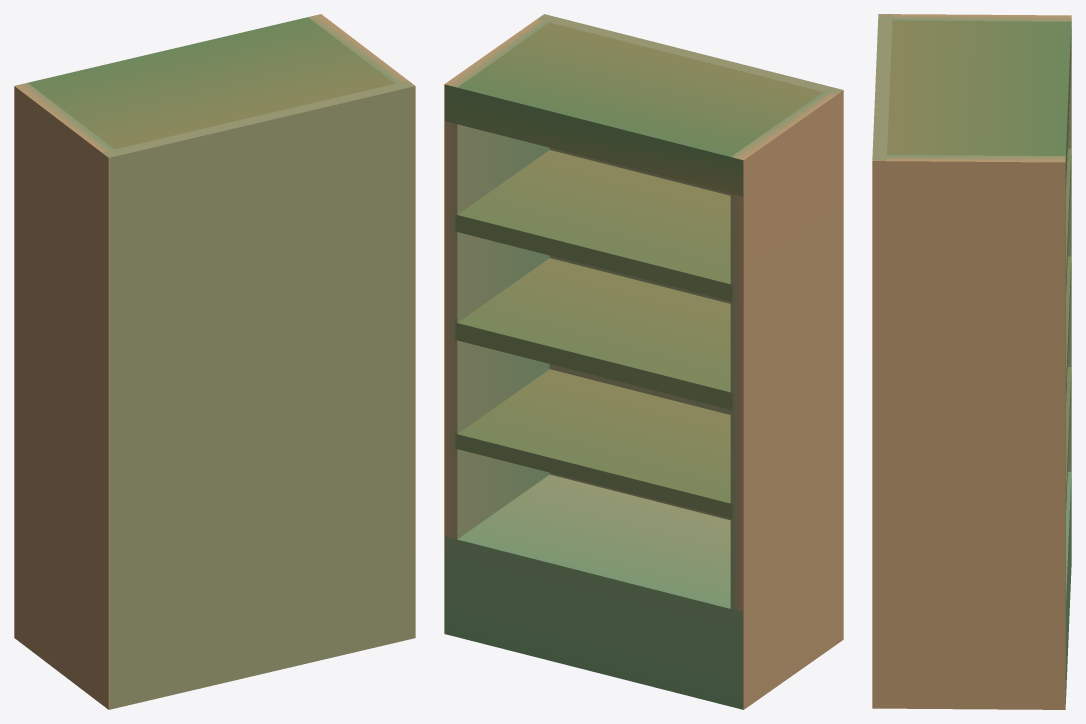
3 renders of one model, left to right at view 1: azimuth 30°, elevation 25°; view 2: azimuth 150°, elevation 25°; view 3: azimuth 270°, elevation 25°, orthographic.
Visible parts, largest first — view 1: back, side, top, side.001; view 2: side, base, top, shelf.001, shelf.002, side.001, shelf, back; view 3: side.001, top, side, back, base, shelf.001, shelf.002, shelf.
Boxes of the visible parts, bbox=[...] form: back: bbox=[103, 81, 414, 709]; side: bbox=[14, 83, 120, 709]; top: bbox=[28, 17, 394, 149]; side.001: bbox=[308, 14, 415, 637]; side: bbox=[730, 88, 843, 709]; base: bbox=[445, 474, 742, 709]; top: bbox=[445, 22, 822, 196]; shelf.001: bbox=[455, 258, 732, 410]; shelf.002: bbox=[455, 150, 732, 301]; side.001: bbox=[444, 14, 549, 633]; shelf: bbox=[455, 369, 732, 518]; back: bbox=[538, 14, 842, 520]; side.001: bbox=[872, 154, 1065, 709]; top: bbox=[887, 20, 1071, 193]; side: bbox=[878, 14, 1071, 471]; back: bbox=[872, 14, 892, 160]; base: bbox=[1065, 470, 1071, 704]; shelf.001: bbox=[1065, 256, 1071, 408]; shelf.002: bbox=[1065, 148, 1071, 300]; shelf: bbox=[1065, 367, 1071, 516].
Bounding box in the file's own units: 1.05 × 1.8 × 0.594.
